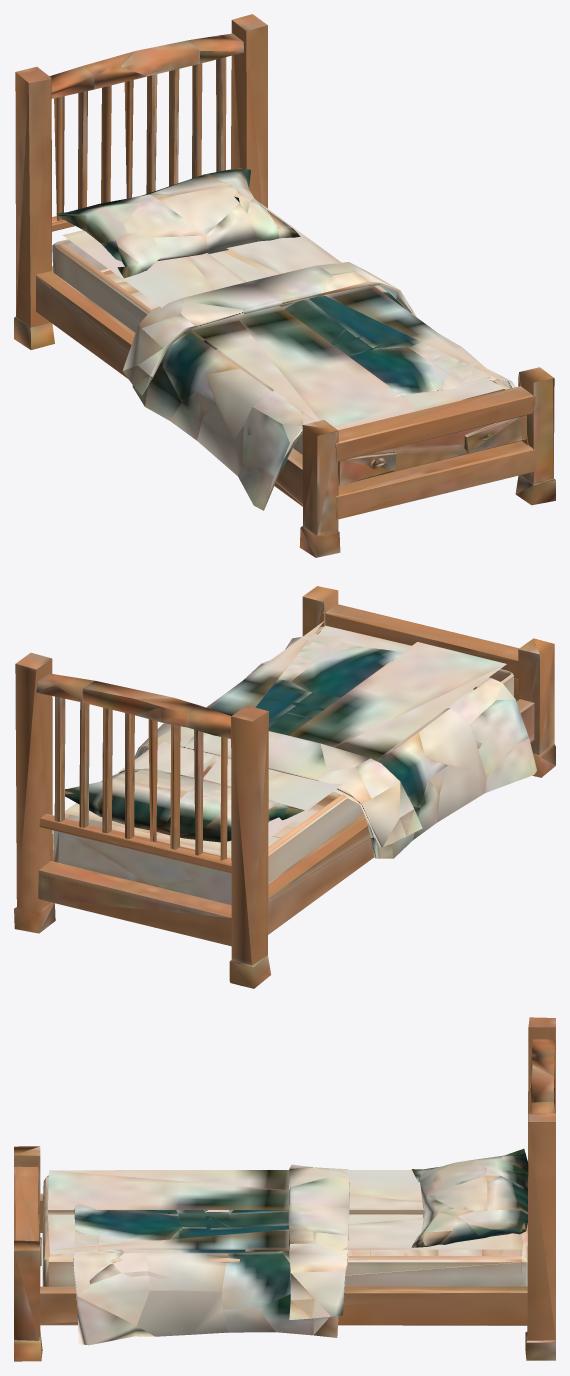
Rendered from bed.lod2.glb.
3 views of the same model, one above another, from view 1: azimuth 30°, elevation 25°; view 2: azimuth 150°, elevation 25°; view 3: azimuth 270°, elevation 25° (orthographic). The views are drawn at different scales.
Bounding box in the file's own units: 1.1 × 1 × 2.05.
Materials: 1 (1 with a texture image).
